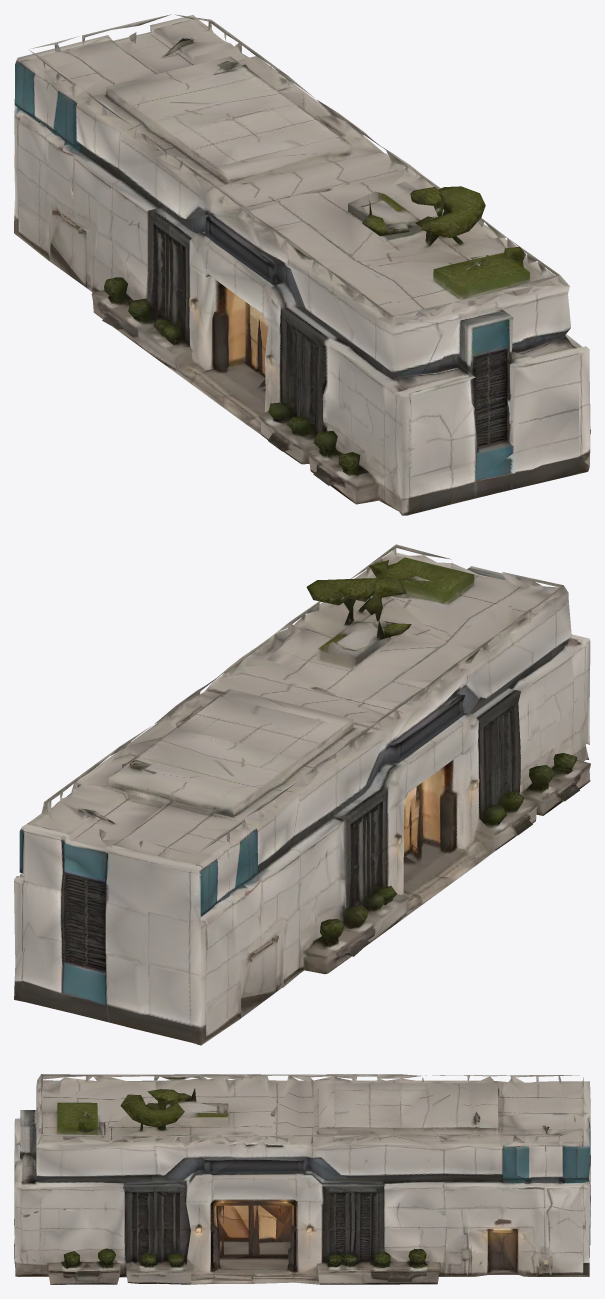
The model's file is podiumSegment.glb.
The picture shows the model from 3 angles, top to bottom: view 1: azimuth 30°, elevation 25°; view 2: azimuth 150°, elevation 25°; view 3: azimuth 270°, elevation 25°; orthographic projection. The views are drawn at different scales.
Parts seen in each view (by area): view 1: podiumSegment; view 2: podiumSegment; view 3: podiumSegment.
Boxes of the visible parts, <box> form: podiumSegment: <box>14,14,590,515</box>; podiumSegment: <box>14,544,590,1045</box>; podiumSegment: <box>14,1074,590,1284</box>.
Bounding box in the file's own units: 14.87 × 12.45 × 40.
1 material, 1 textured.
